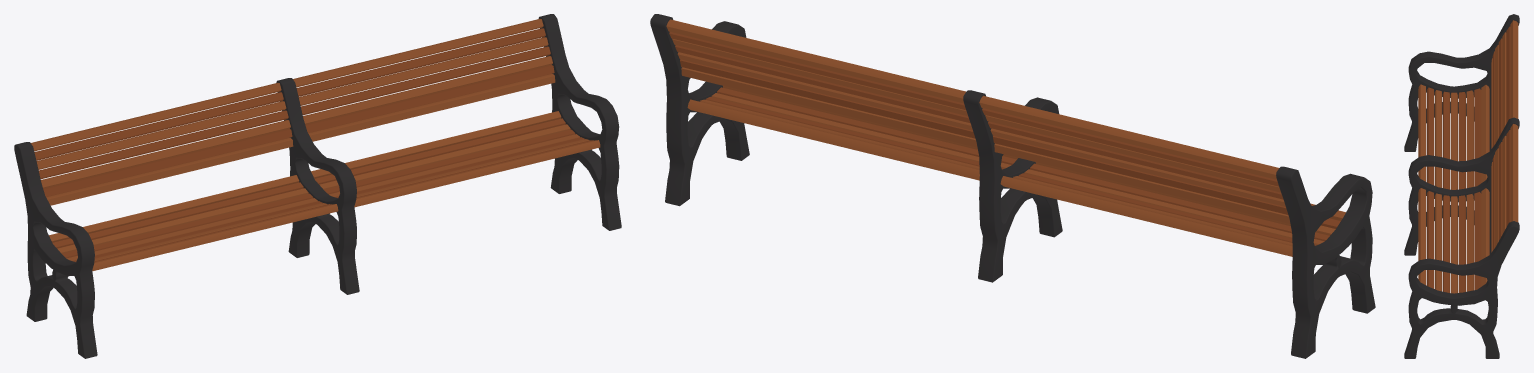
The model's file is Bench.glb.
3 views of the same model, side by side, from view 1: azimuth 30°, elevation 25°; view 2: azimuth 150°, elevation 25°; view 3: azimuth 270°, elevation 25° (orthographic). The views are drawn at different scales.
Visible parts, largest first — view 1: Bench; view 2: Bench; view 3: Bench.
Part boxes in pixels (bbox=[...]): Bench: bbox=[14, 14, 621, 358]; Bench: bbox=[650, 14, 1375, 358]; Bench: bbox=[1404, 14, 1519, 358].
Bounding box in the file's own units: 5.1 × 1.49 × 1.17.
Materials: 1 (1 with a texture image).
